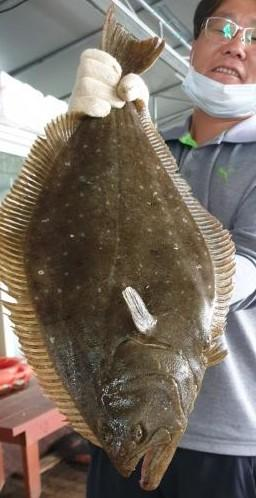fish: (0, 6, 238, 493)
